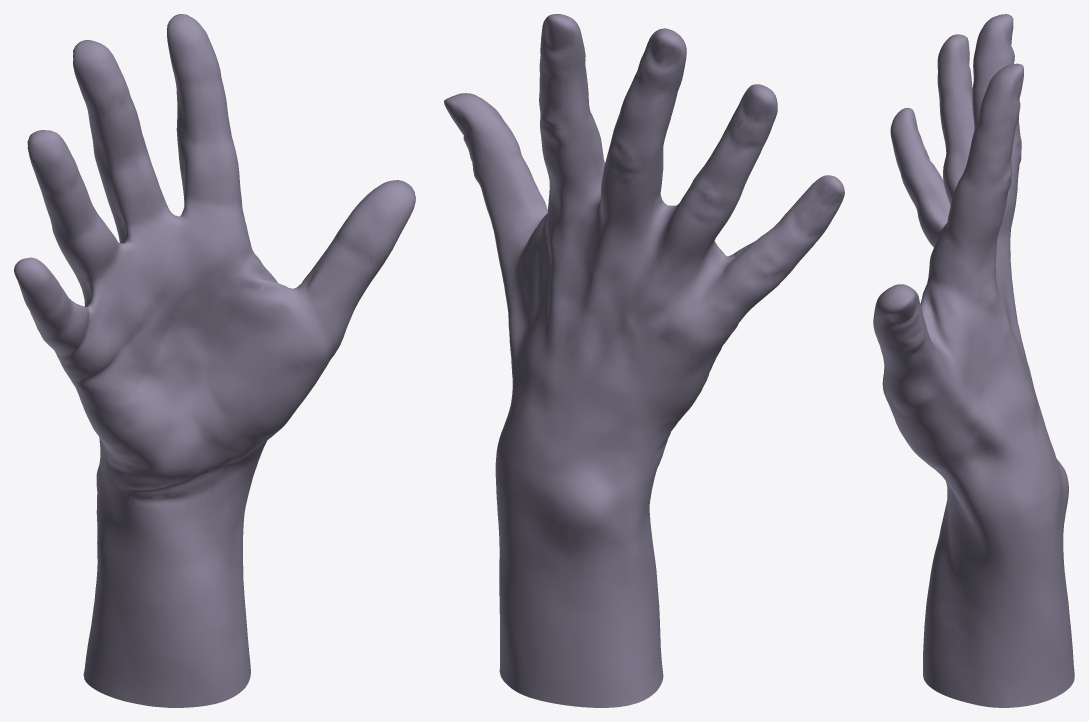
Rendered from 手_20260324182145_opt_std.glb.
3 renders of one model, left to right at view 1: azimuth 30°, elevation 25°; view 2: azimuth 150°, elevation 25°; view 3: azimuth 270°, elevation 25°, orthographic. The views are drawn at different scales.
Visible parts, largest first — view 1: skin_low; view 2: skin_low; view 3: skin_low.
Boxes of the visible parts, <box> form: skin_low: <box>14,14,415,707</box>; skin_low: <box>444,14,844,707</box>; skin_low: <box>873,14,1074,707</box>.
Size of the model in its own units: 0.2536 by 0.4 by 0.1177.
